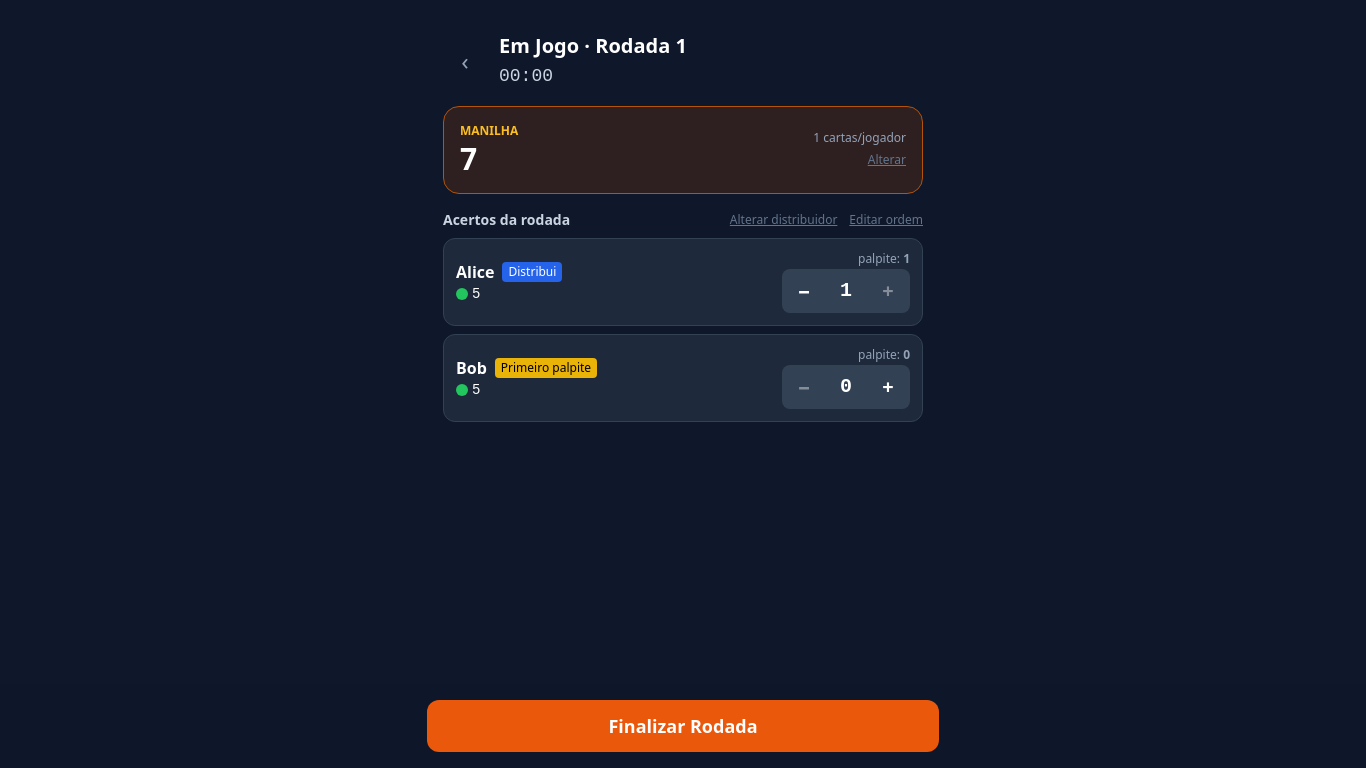
it: PlayingPhase — dealer toggle › clicking Cancelar hides DealerSelectionStep
This screenshot has width=1366, height=768.
Click the button "Alterar distribuidor": point(784, 220) [730, 212, 837, 228]
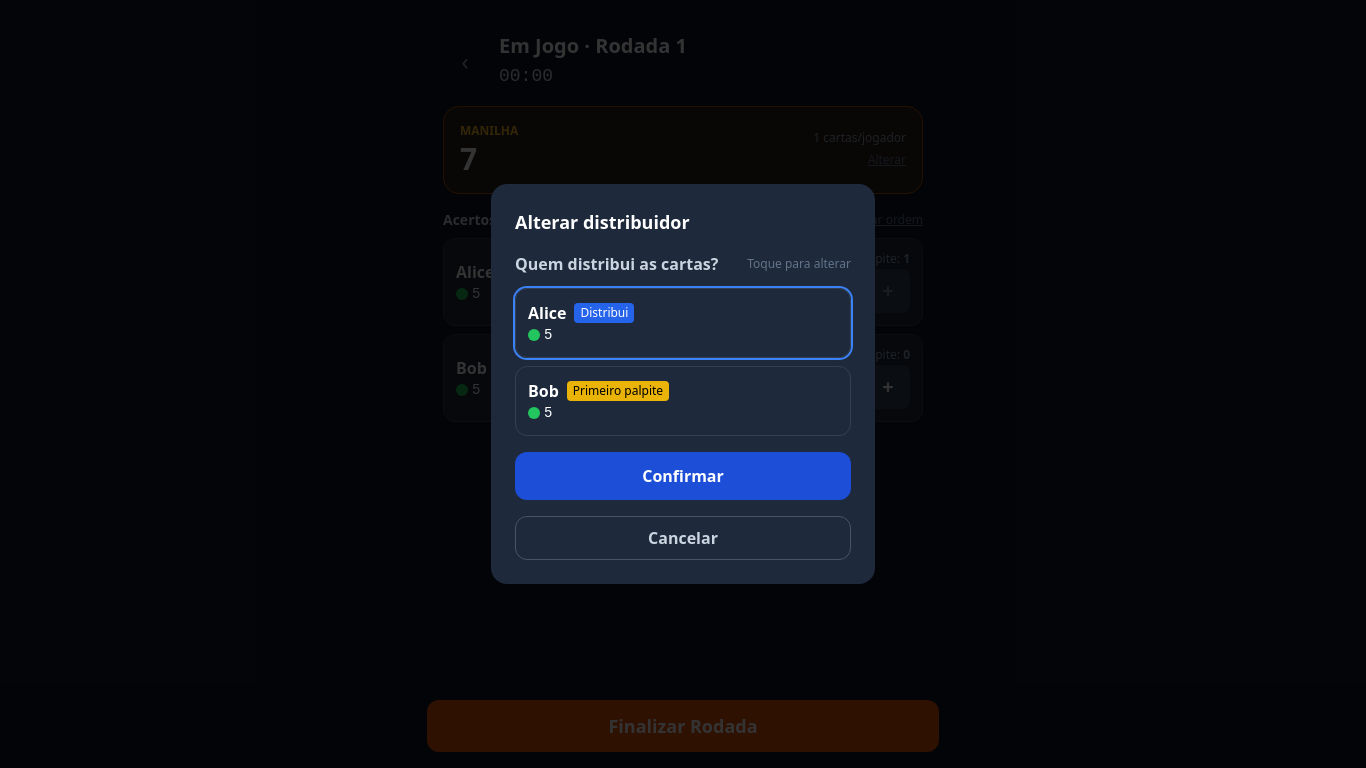
Click the button "Cancelar": point(683, 538) [515, 516, 851, 560]
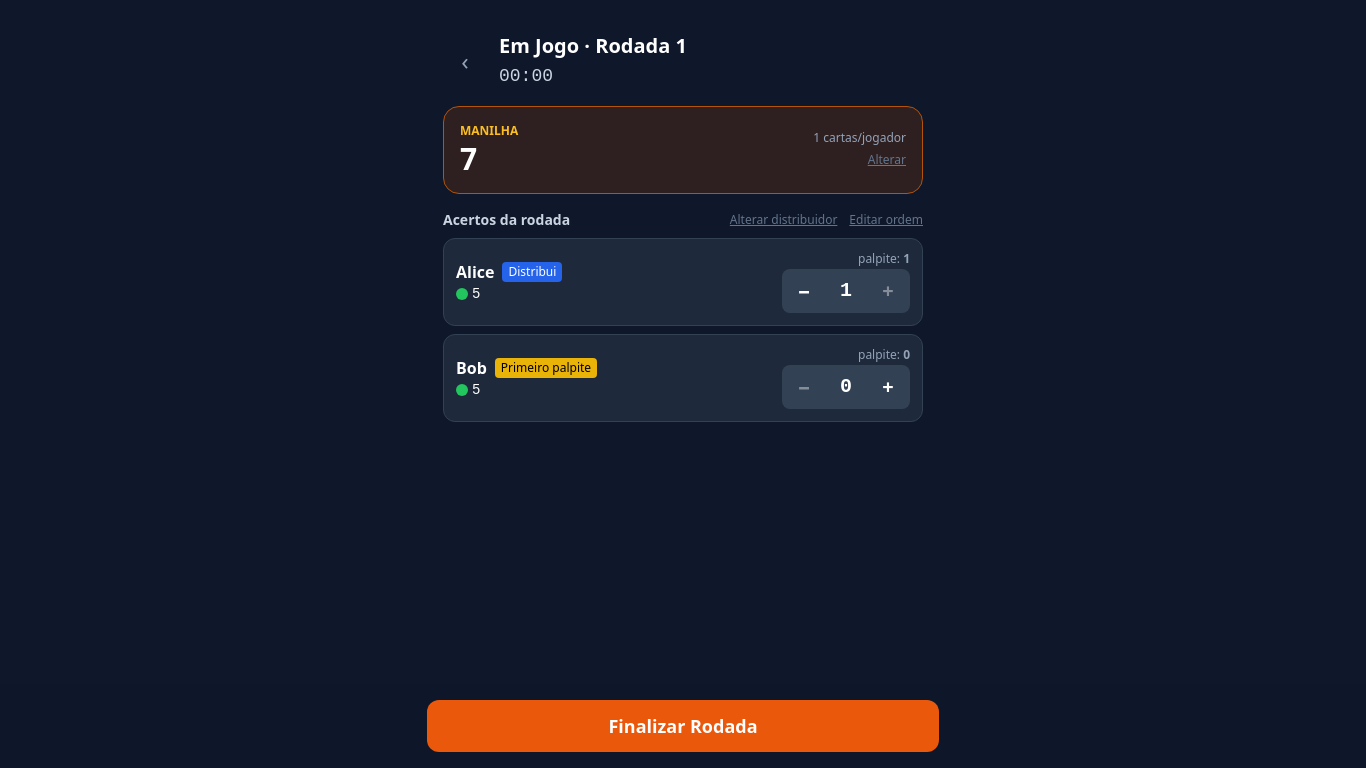
expect the heading "Quem distribui as cartas?" is gone: met
